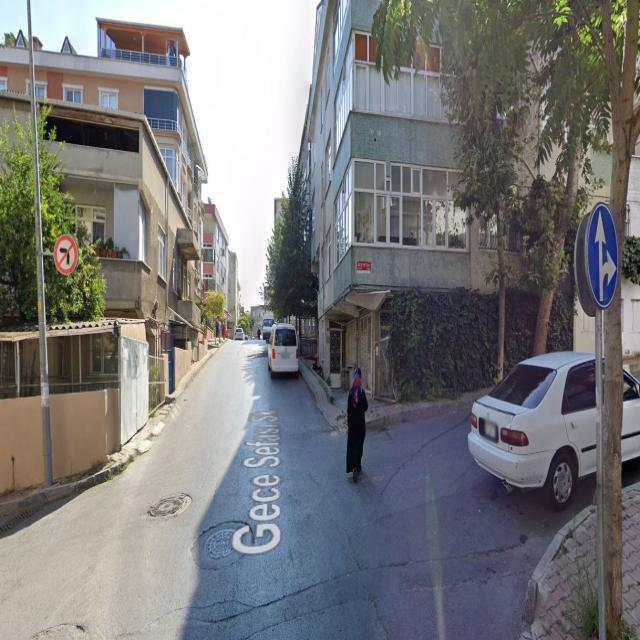ilerisag: (586, 203, 618, 309)
soladonulmez: (53, 236, 77, 274)
